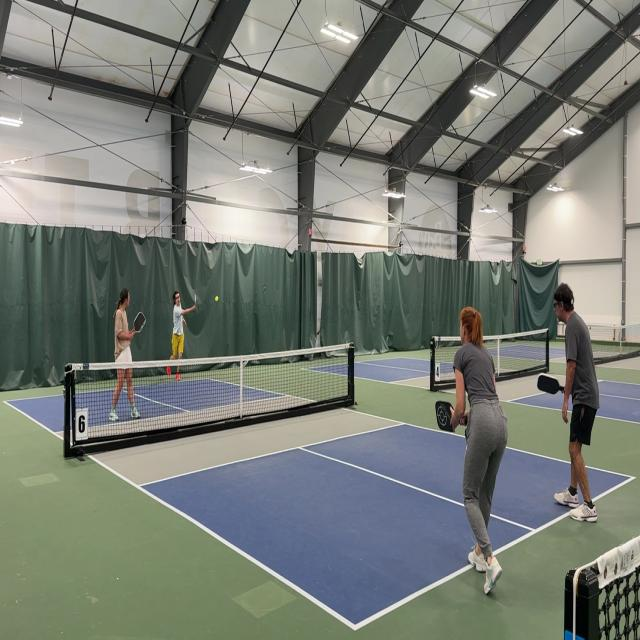ball: (214, 295, 219, 302)
